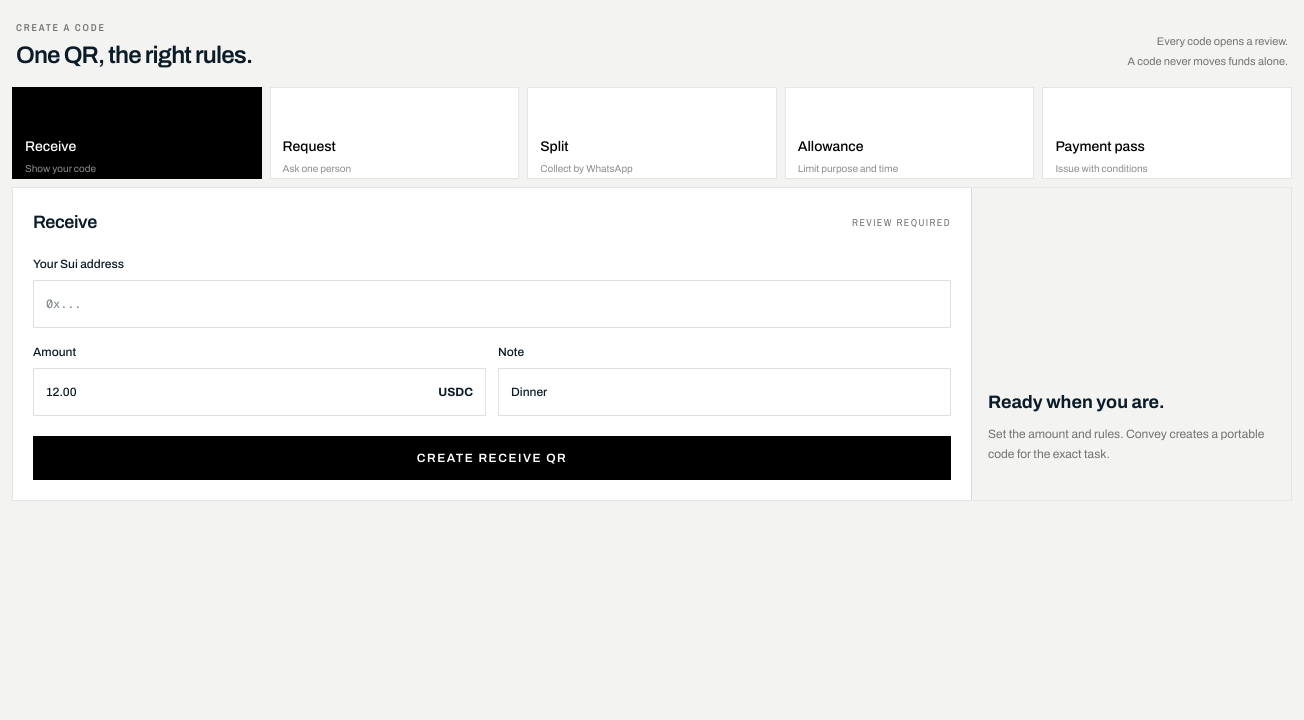
QR task studio › rejects a receive code without a complete Sui address
What coordinates should you click on to do the following:
click the button "Create receive QR"
I would click on:
 (492, 458)
Its box is [33,436,951,480].
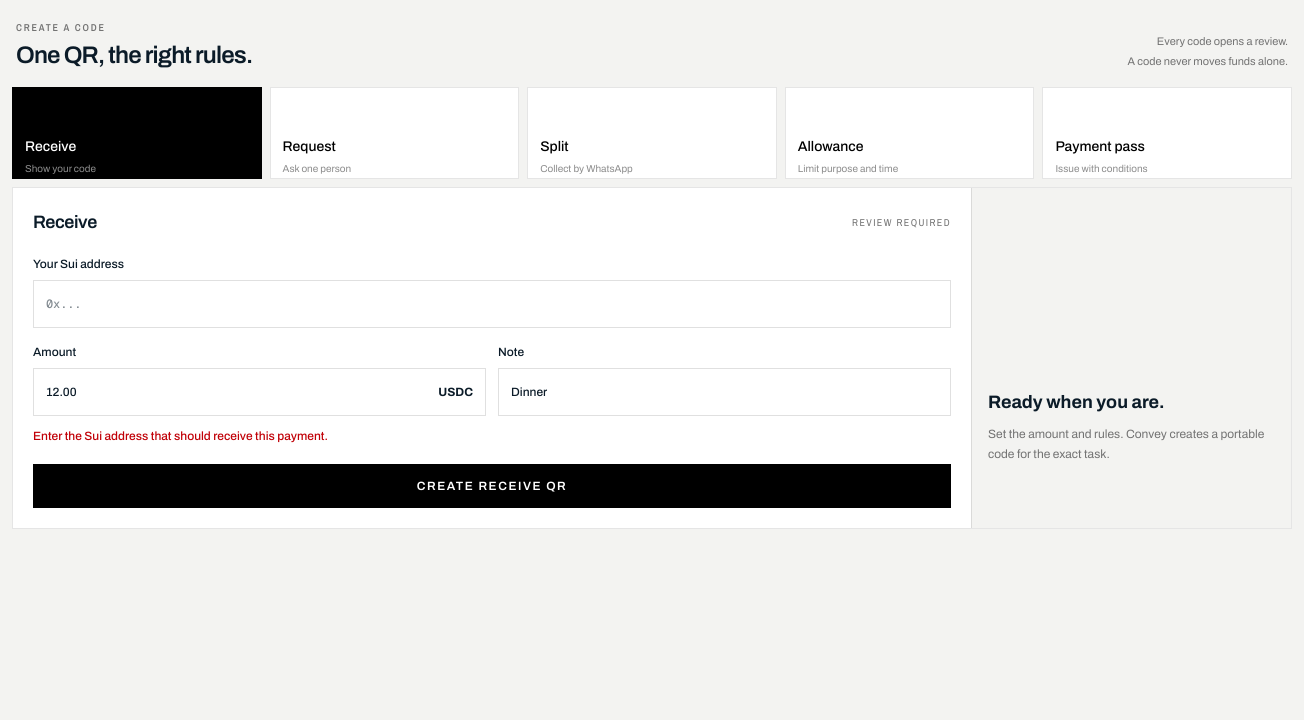
Expected: the message shows "Enter the Sui address", [33,429,328,443]
